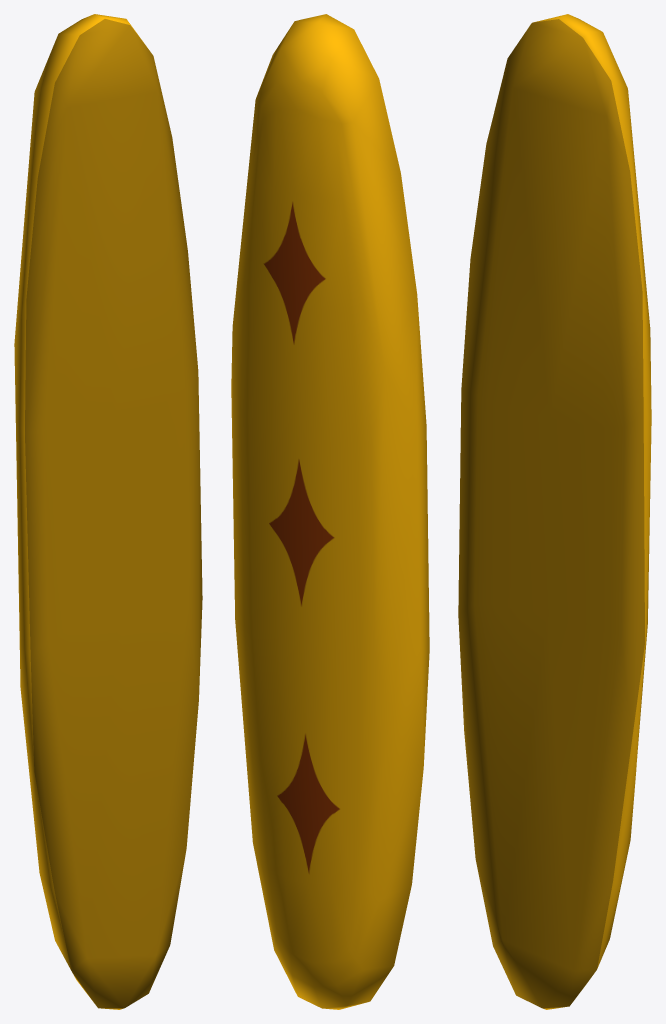
Rendered from yoot-v2-regular-2.glb.
3 renders of one model, left to right at view 1: azimuth 30°, elevation 25°; view 2: azimuth 150°, elevation 25°; view 3: azimuth 330°, elevation 25°, orthographic. The views are drawn at different scales.
Parts seen in each view (by area): view 1: yoot1; view 2: yoot1; view 3: yoot1.
Part boxes in pixels (x1,y1,x2,y2): yoot1: (14,14,202,1009); yoot1: (231,14,429,1009); yoot1: (458,14,651,1009).
Size of the model in its own units: 2.42 by 12.56 by 1.2.
Materials: 1 (1 with a texture image).
